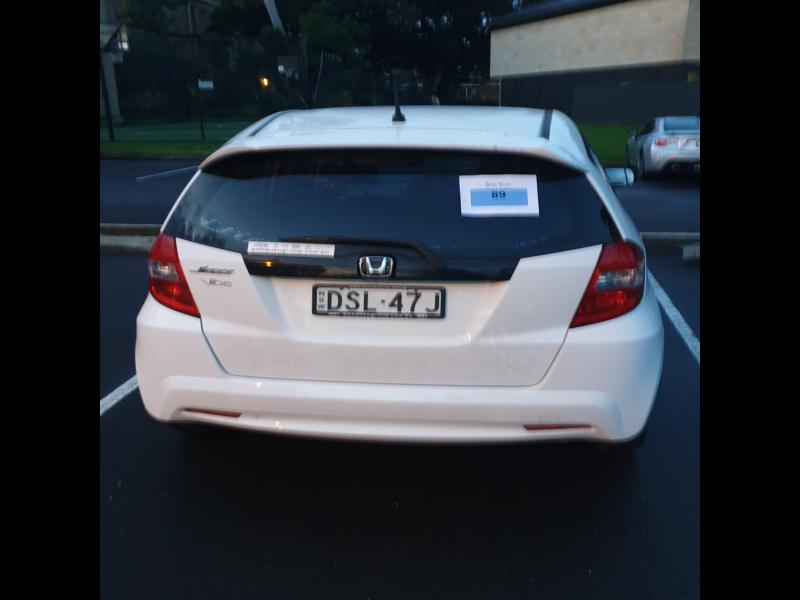BusRun: (471, 186, 527, 204)
PlateNo: (311, 286, 445, 315)
